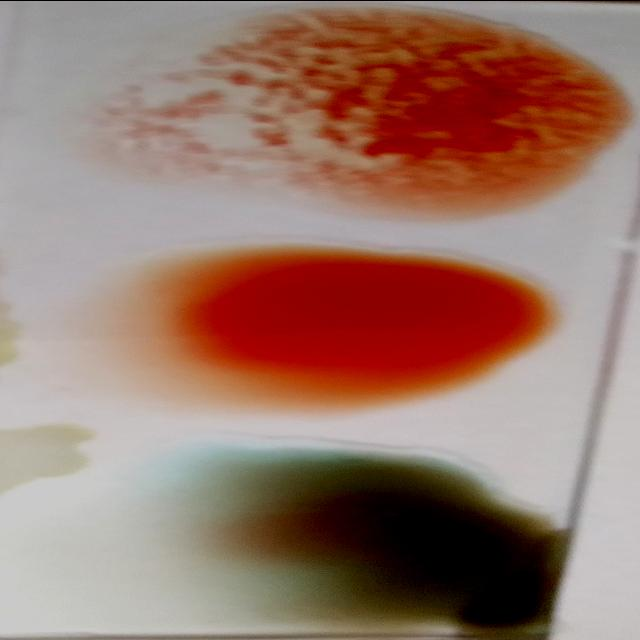D: (139, 12, 608, 206)
